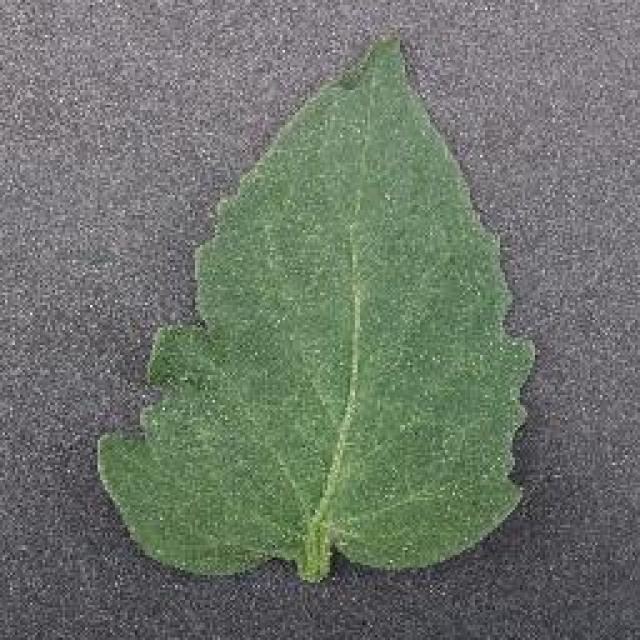Tomato healthy leaf: (100, 32, 528, 570)
